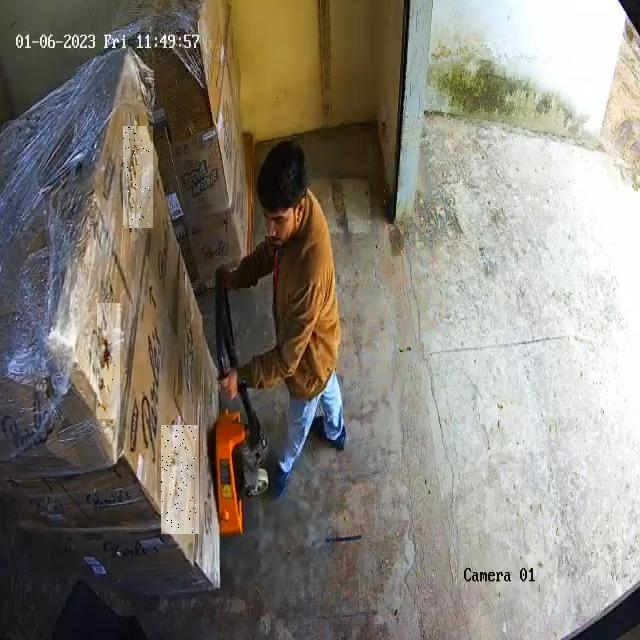leakage: (162, 426, 197, 533), (124, 126, 151, 227), (98, 303, 118, 419)
